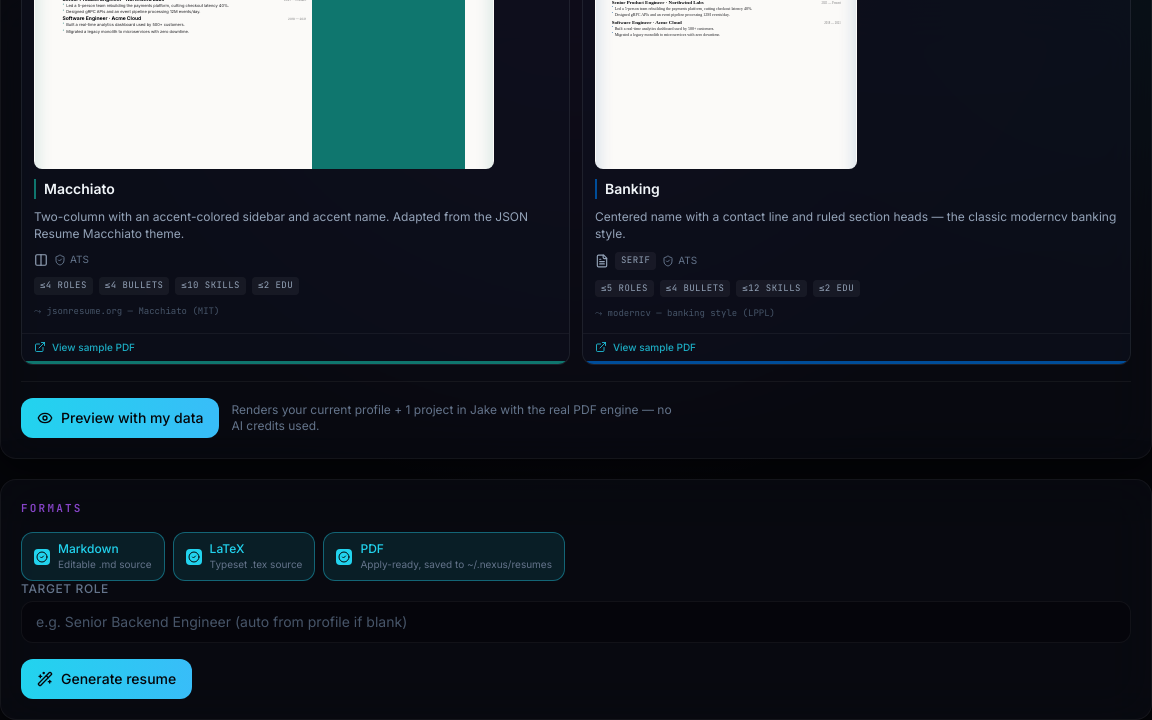
ImproveTab › does not crash when the backend returns an incomplete shape
(page scrolled)
Click the button "Generate resume" at (107, 679), box [21,659,192,699]
(page scrolled)
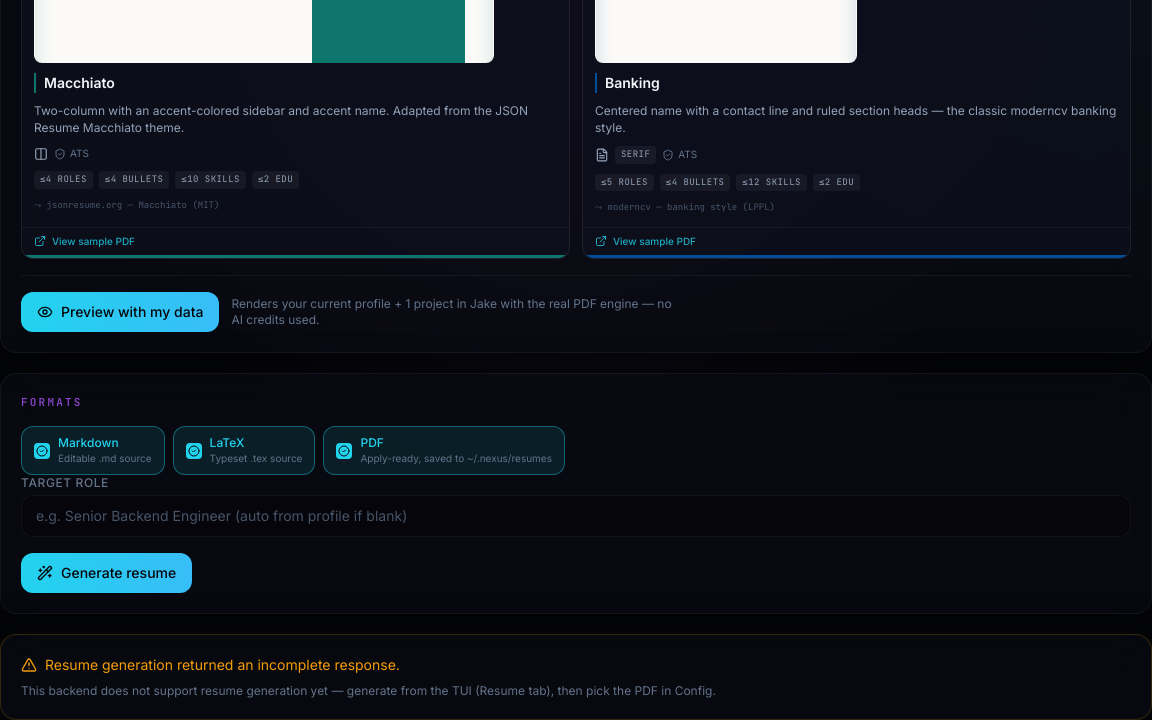
Expected: the text "Resume generation returned an incomplete response." is shown, [21,656,400,673]
